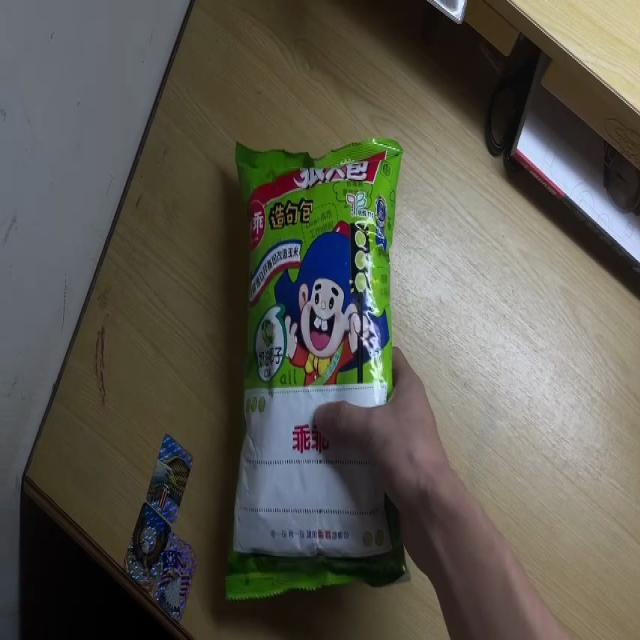Good-Luck: (225, 131, 412, 597)
